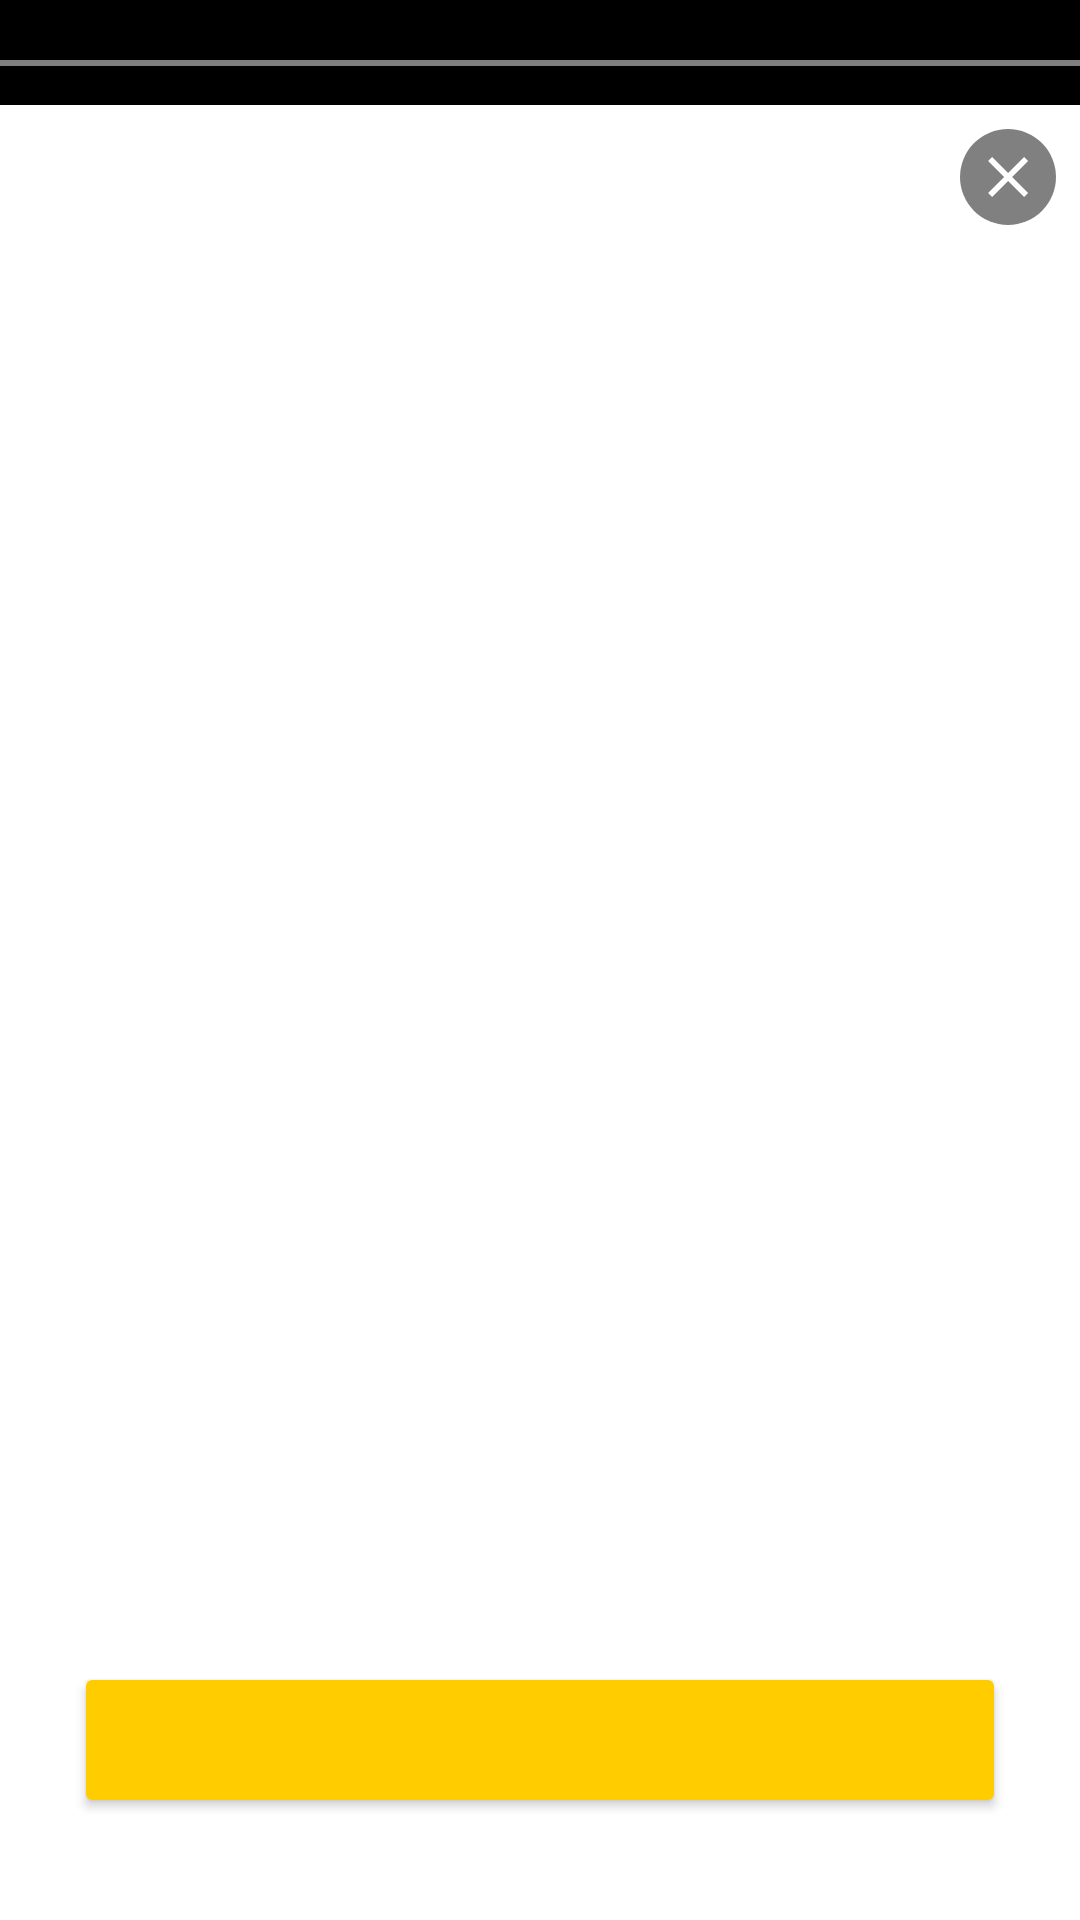

Locate icon controls on the screen. Image size 1080×1920, boxes as bbox=(x1, y1, x2, y2).
close story: bbox=(960, 129, 1056, 225)
